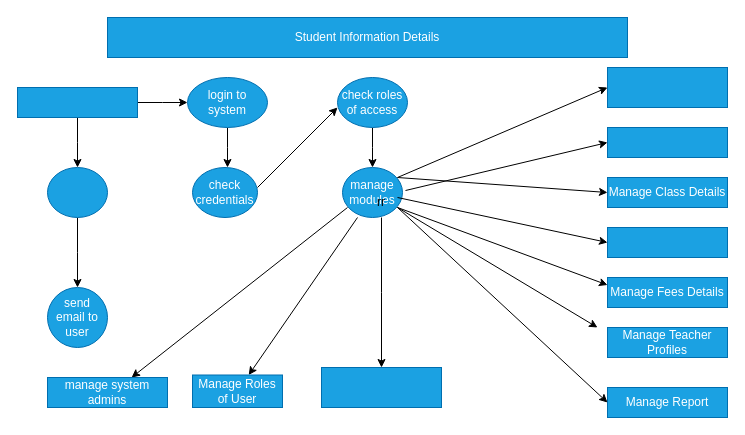
This 745x435 diagram has some shape labels left out. Each missing label, with the centre of its shape:
"Admin" goes at (77,102).
"Forgot password" goes at (77,192).
"Manage attendance Deatils" goes at (667,142).
"Manage Student Details" goes at (667,242).
"Manage Timetable Details" goes at (667,87).
"Manage user permission" goes at (381,387).
